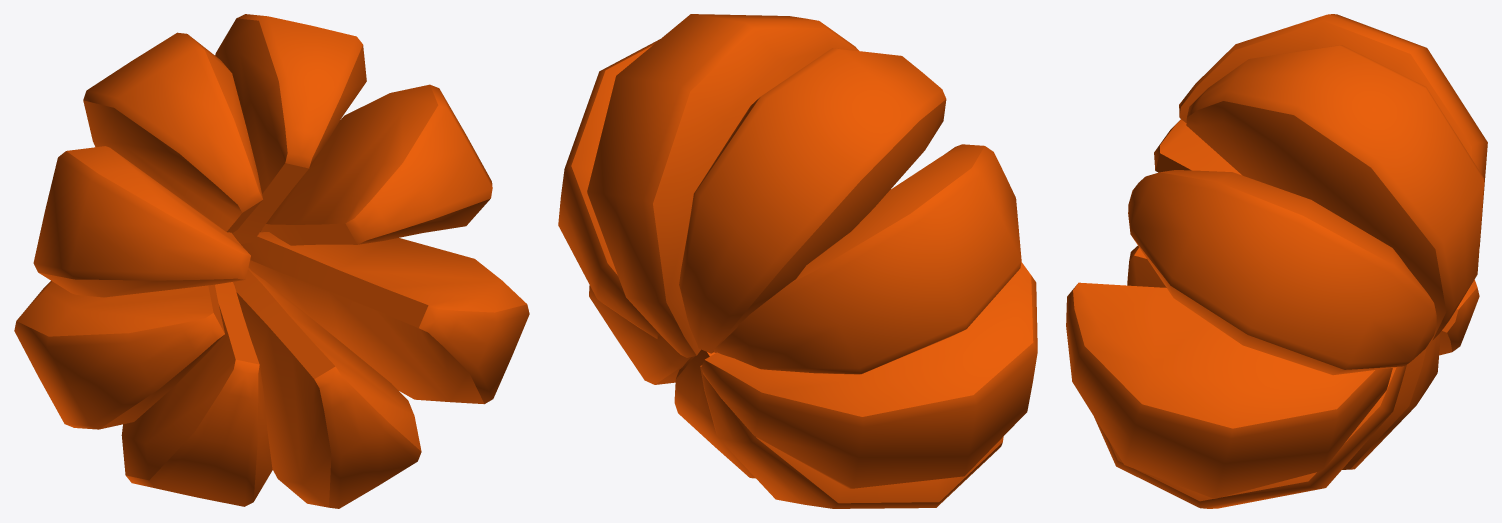
Rendered from p_mesh_hvs_lemonium_part04.fbx.
3 views of the same model, side by side, from view 1: azimuth 30°, elevation 25°; view 2: azimuth 150°, elevation 25°; view 3: azimuth 270°, elevation 25° (orthographic). The views are drawn at different scales.
Parts seen in each view (by area): view 1: p_harvests_lemonium_part04; view 2: p_harvests_lemonium_part04; view 3: p_harvests_lemonium_part04.
Part boxes in pixels (x1=…): p_harvests_lemonium_part04: x1=14, y1=14, x2=529, y2=508; p_harvests_lemonium_part04: x1=558, y1=14, x2=1037, y2=508; p_harvests_lemonium_part04: x1=1066, y1=14, x2=1487, y2=508.
Size of the model in its own units: 5.27 by 5.26 by 4.3.
